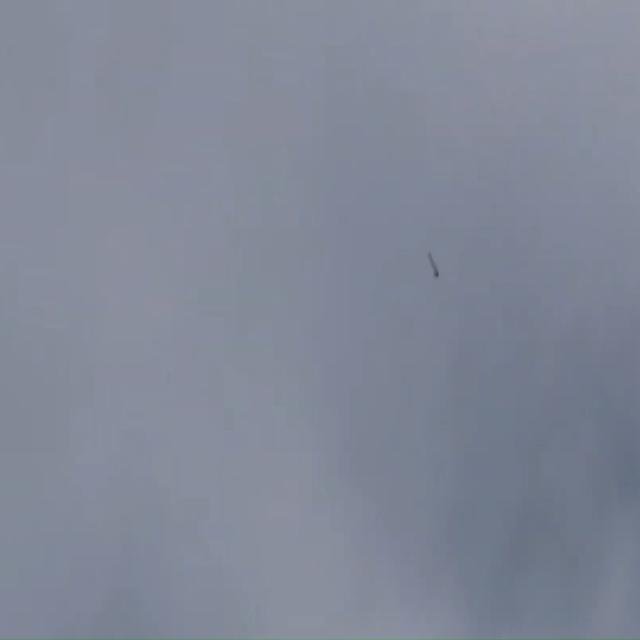Rocket: (428, 252, 440, 276)
